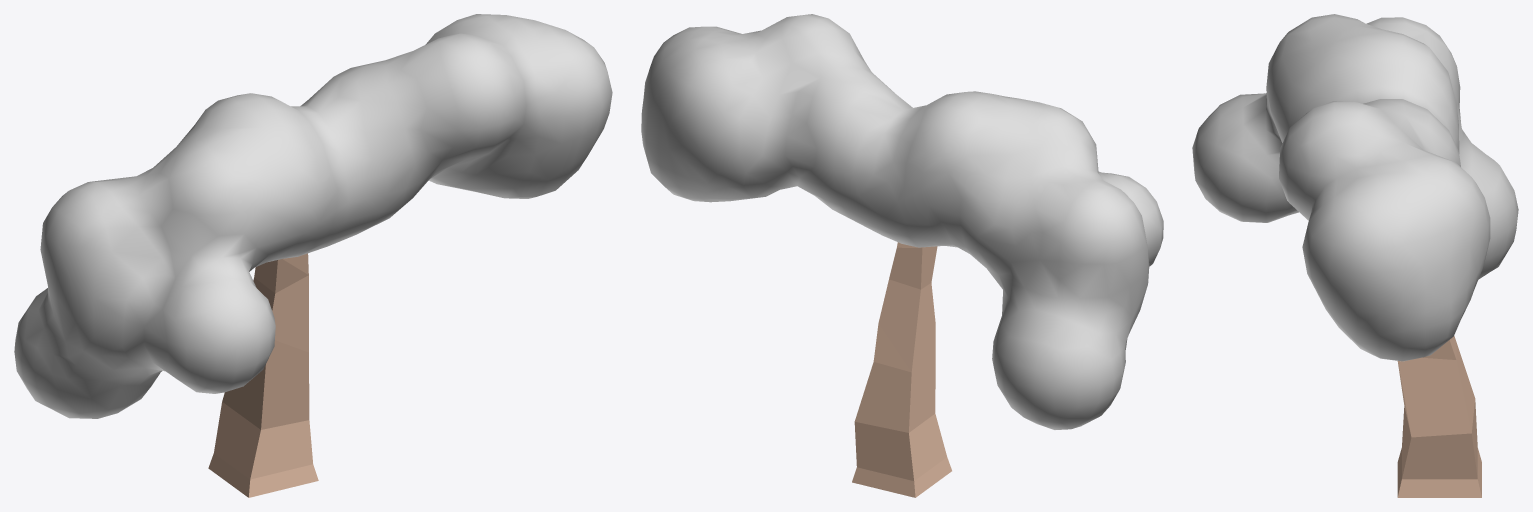
The model's file is theTreept2.fbx.
The picture shows the model from 3 angles, left to right: view 1: azimuth 30°, elevation 25°; view 2: azimuth 150°, elevation 25°; view 3: azimuth 270°, elevation 25°; orthographic projection. The views are drawn at different scales.
Parts seen in each view (by area): view 1: tree_LOD0; view 2: tree_LOD0; view 3: tree_LOD0.
Part boxes in pixels (x1,y1,x2,y2): tree_LOD0: [14, 14, 612, 497]; tree_LOD0: [641, 14, 1163, 497]; tree_LOD0: [1192, 14, 1518, 497].
Size of what is drawn, in the model's own units: 1145 by 869 by 570.
